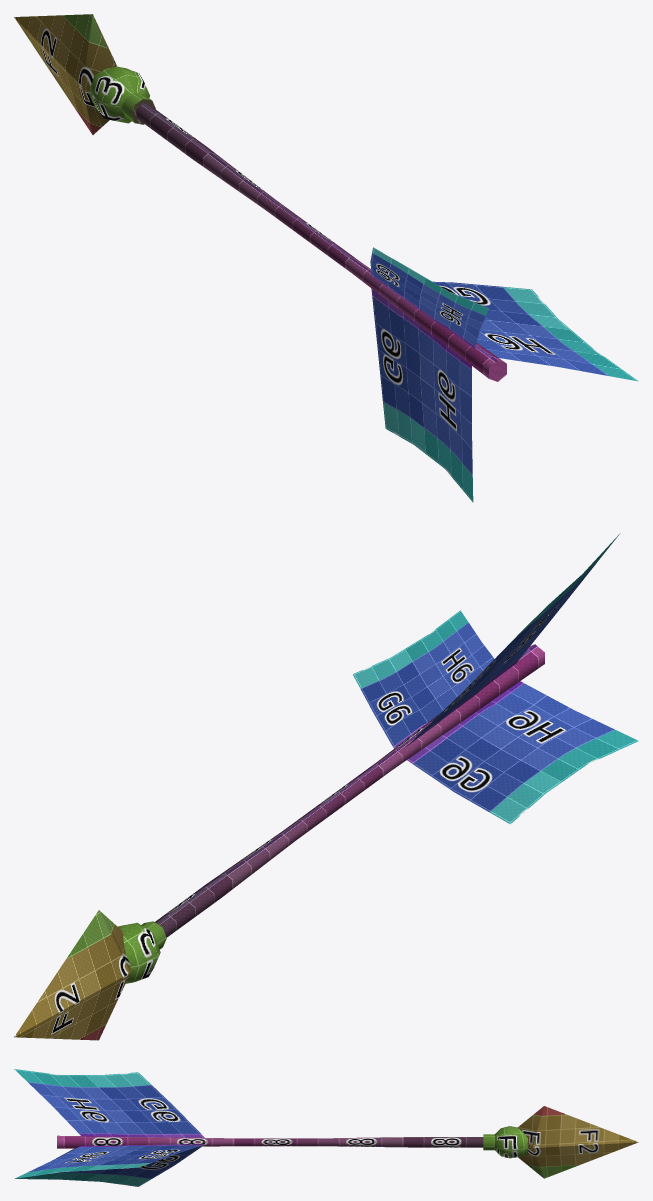
Rendered from Arrow.glb.
3 views of the same model, one above another, from view 1: azimuth 30°, elevation 25°; view 2: azimuth 150°, elevation 25°; view 3: azimuth 270°, elevation 25° (orthographic). The views are drawn at different scales.
Visible parts, largest first — view 1: Arrow; view 2: Arrow; view 3: Arrow.
Part boxes in pixels (x1,y1,x2,y2): Arrow: (14, 14, 638, 502); Arrow: (14, 533, 638, 1040); Arrow: (14, 1069, 638, 1186).
Bounding box in the file's own units: 0.1601 × 0.1812 × 0.87.
Materials: 1 (1 with a texture image).
